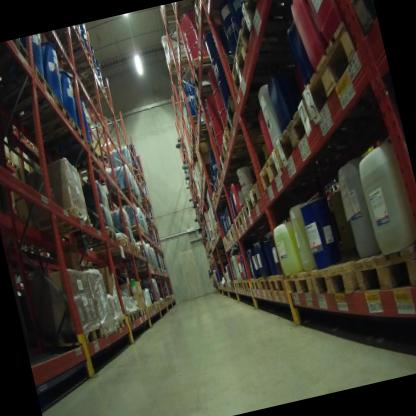pallet: (287, 6, 379, 134), (224, 31, 314, 106), (267, 99, 327, 188), (232, 0, 318, 56), (221, 83, 302, 140), (348, 238, 416, 305), (0, 86, 76, 140), (217, 115, 285, 165), (0, 58, 61, 113), (306, 251, 367, 306), (18, 115, 90, 158), (30, 202, 96, 243), (36, 321, 107, 357), (251, 143, 292, 201), (187, 47, 238, 90), (37, 33, 92, 69), (242, 176, 282, 220), (55, 50, 102, 87), (51, 140, 102, 173), (0, 36, 44, 74), (220, 27, 253, 77), (283, 262, 324, 302), (215, 144, 264, 174), (70, 76, 113, 110), (188, 82, 230, 116), (349, 0, 379, 46), (158, 0, 197, 35), (87, 234, 133, 263), (76, 225, 121, 254), (96, 240, 143, 266), (166, 48, 200, 79), (101, 177, 136, 207), (265, 265, 292, 299), (182, 0, 209, 33), (192, 118, 222, 145), (229, 204, 248, 236), (94, 321, 121, 342), (248, 271, 267, 296), (237, 199, 253, 227), (185, 114, 207, 134), (259, 270, 275, 296), (123, 221, 146, 239), (212, 218, 231, 239), (112, 312, 130, 333), (214, 166, 226, 190), (241, 276, 256, 295), (200, 164, 217, 180), (123, 162, 137, 177), (236, 274, 247, 293), (209, 189, 220, 208), (227, 222, 240, 238), (126, 310, 138, 326), (222, 236, 232, 254), (213, 179, 222, 199), (225, 229, 233, 246), (134, 308, 144, 321), (233, 275, 241, 291), (229, 278, 237, 292), (140, 305, 149, 316), (146, 303, 153, 315), (155, 300, 161, 310), (151, 302, 157, 311)
